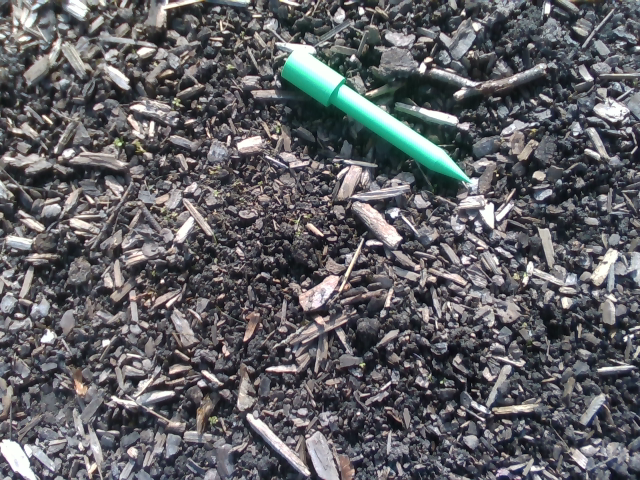Probe: (275, 43, 480, 192)
